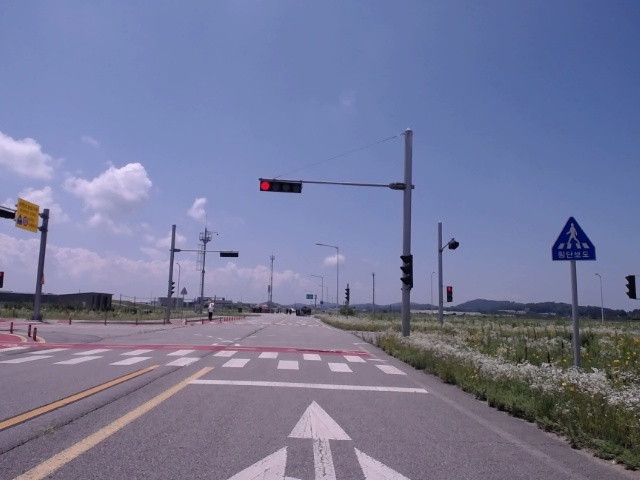red_4: (260, 181, 301, 192)
